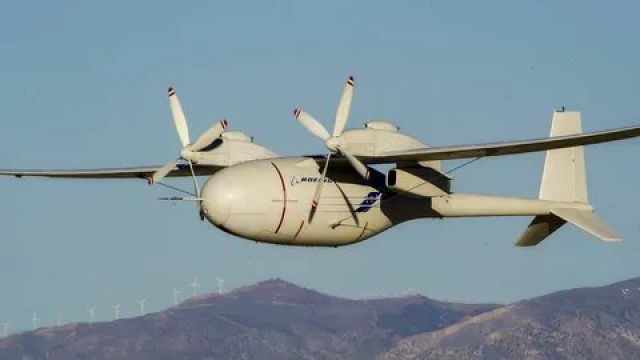military drone: (0, 75, 640, 246)
